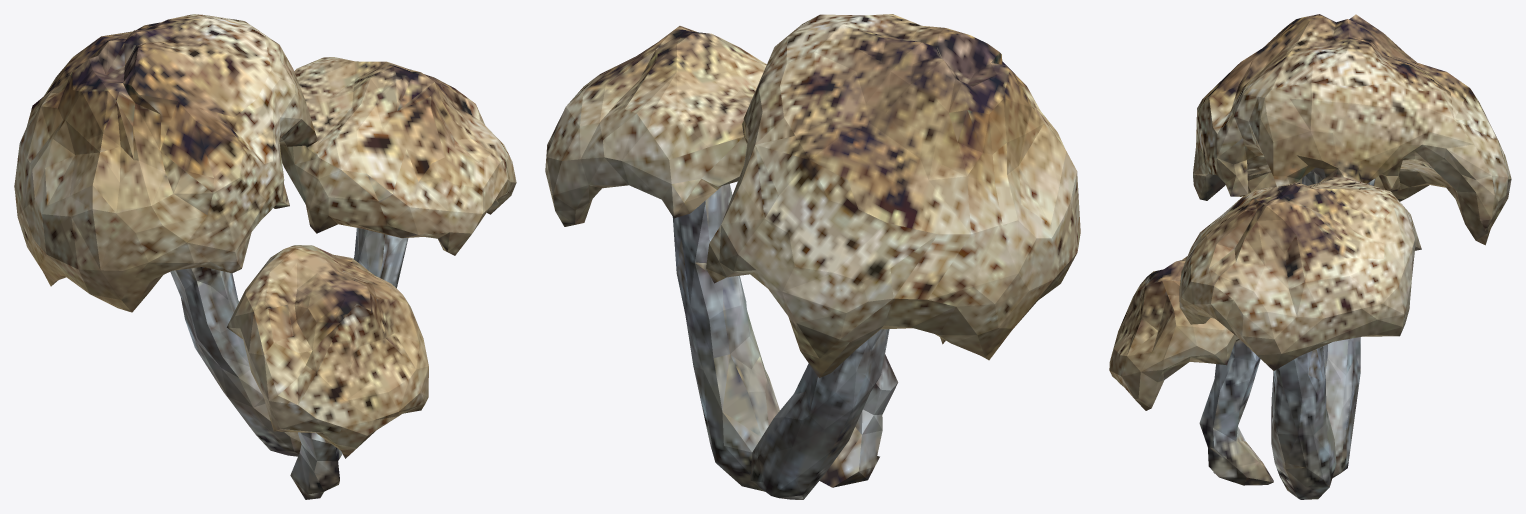
The model's file is P_Baiyugu_04.obj.
The picture shows the model from 3 angles, left to right: view 1: azimuth 30°, elevation 25°; view 2: azimuth 150°, elevation 25°; view 3: azimuth 270°, elevation 25°; orthographic projection. The views are drawn at different scales.
Bounding box in the file's own units: 0.4514 × 0.4441 × 0.3911.
Materials: 1 (1 with a texture image).
